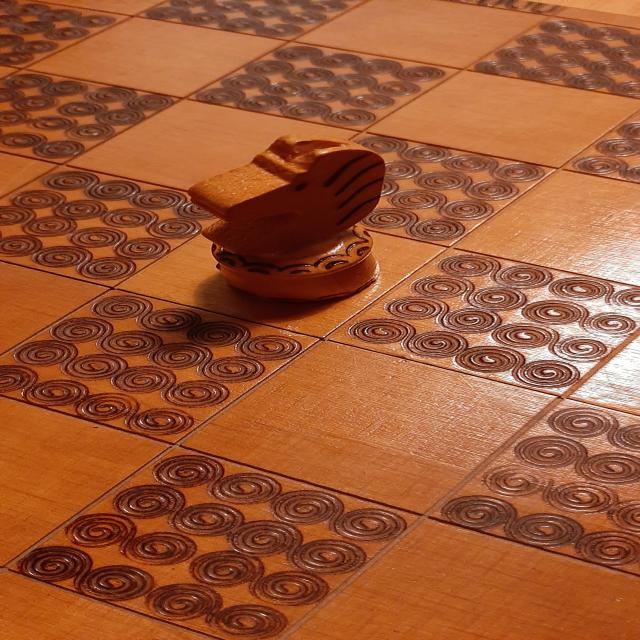white-knight: (188, 133, 388, 304)
